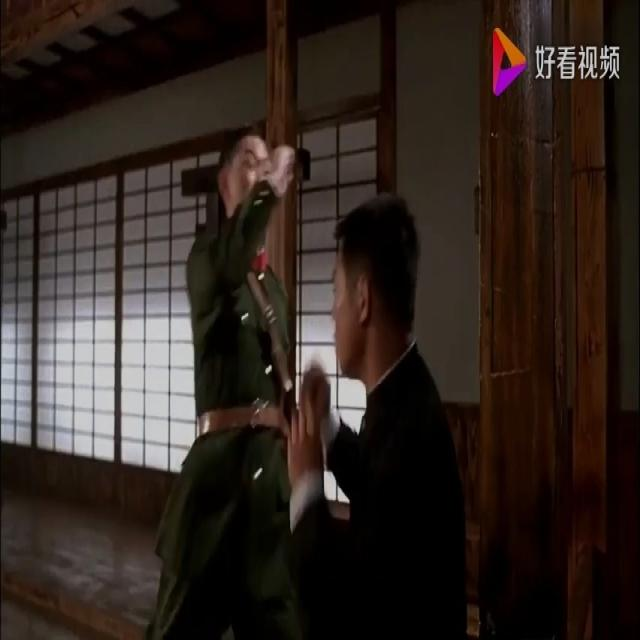fight: (143, 120, 476, 639)
